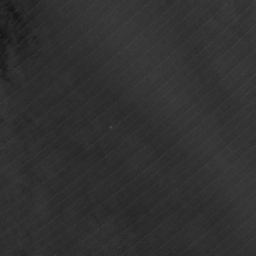Target: (107, 124, 113, 131)
